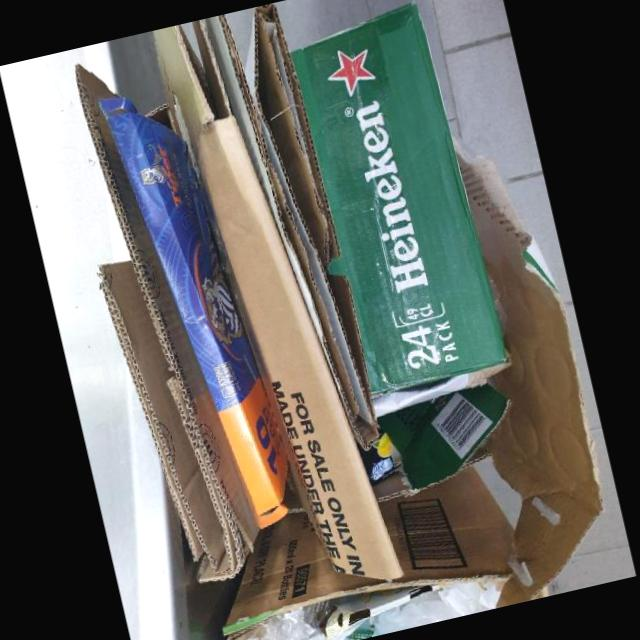carton: (153, 19, 401, 579), (75, 61, 258, 582), (289, 0, 511, 414), (203, 3, 393, 481), (99, 93, 287, 525), (457, 152, 602, 602), (376, 382, 511, 489)
